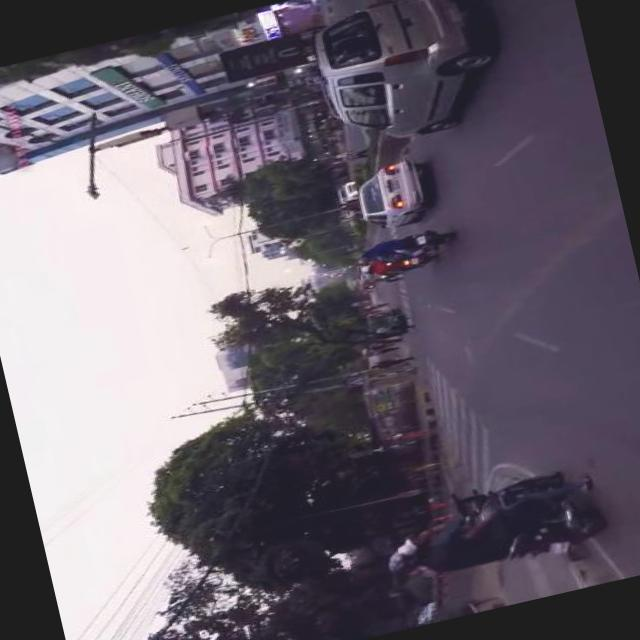car: (301, 0, 502, 157), (348, 160, 427, 238)
motorcycle: (442, 462, 605, 577), (396, 224, 456, 256), (365, 312, 401, 342), (386, 252, 433, 272)
